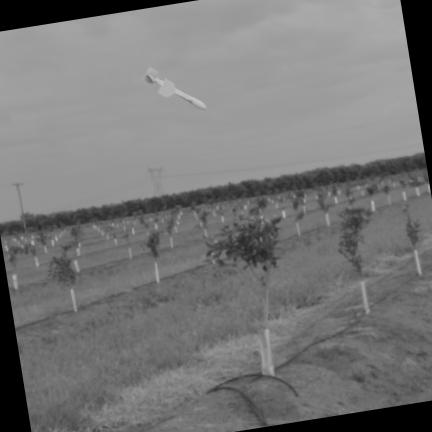Shahed: (143, 67, 206, 109)
